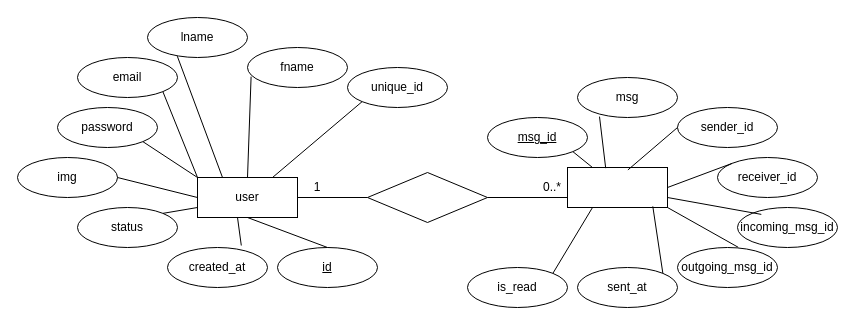
Some shapes in this 855 by 325 pixel diagram are drawn without their labels. Each missing label, with the centre of its shape:
"message" belongs at point 617,187.
"sends/receives" belongs at point 427,197.
